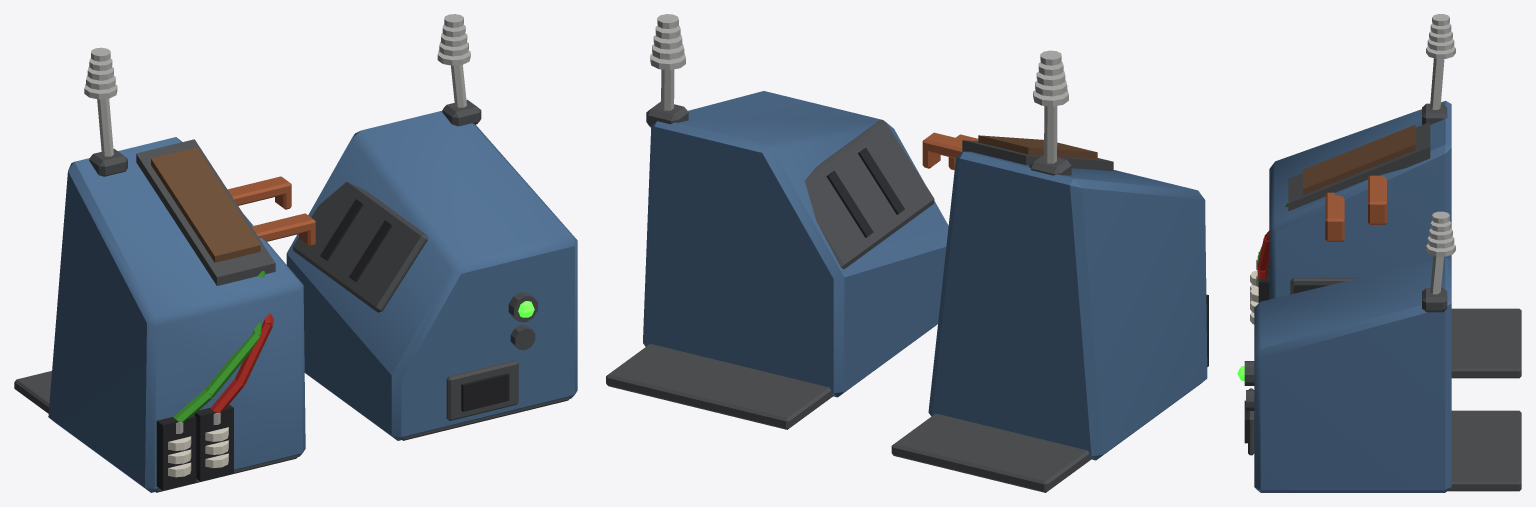
The model's file is power-switch.glb.
The picture shows the model from 3 angles, left to right: view 1: azimuth 30°, elevation 25°; view 2: azimuth 150°, elevation 25°; view 3: azimuth 270°, elevation 25°; orthographic projection. The views are drawn at different scales.
Visible parts, largest first — view 1: body, anim_switch; view 2: body, anim_switch; view 3: body, anim_switch.
Part boxes in pixels (x1,y1,x2,y2): body: [14, 14, 577, 492]; anim_switch: [136, 139, 315, 285]; body: [606, 14, 1208, 492]; anim_switch: [922, 132, 1113, 171]; body: [1237, 14, 1521, 492]; anim_switch: [1288, 122, 1430, 241].
Bounding box in the file's own units: 2.03 × 1.65 × 1.34.
